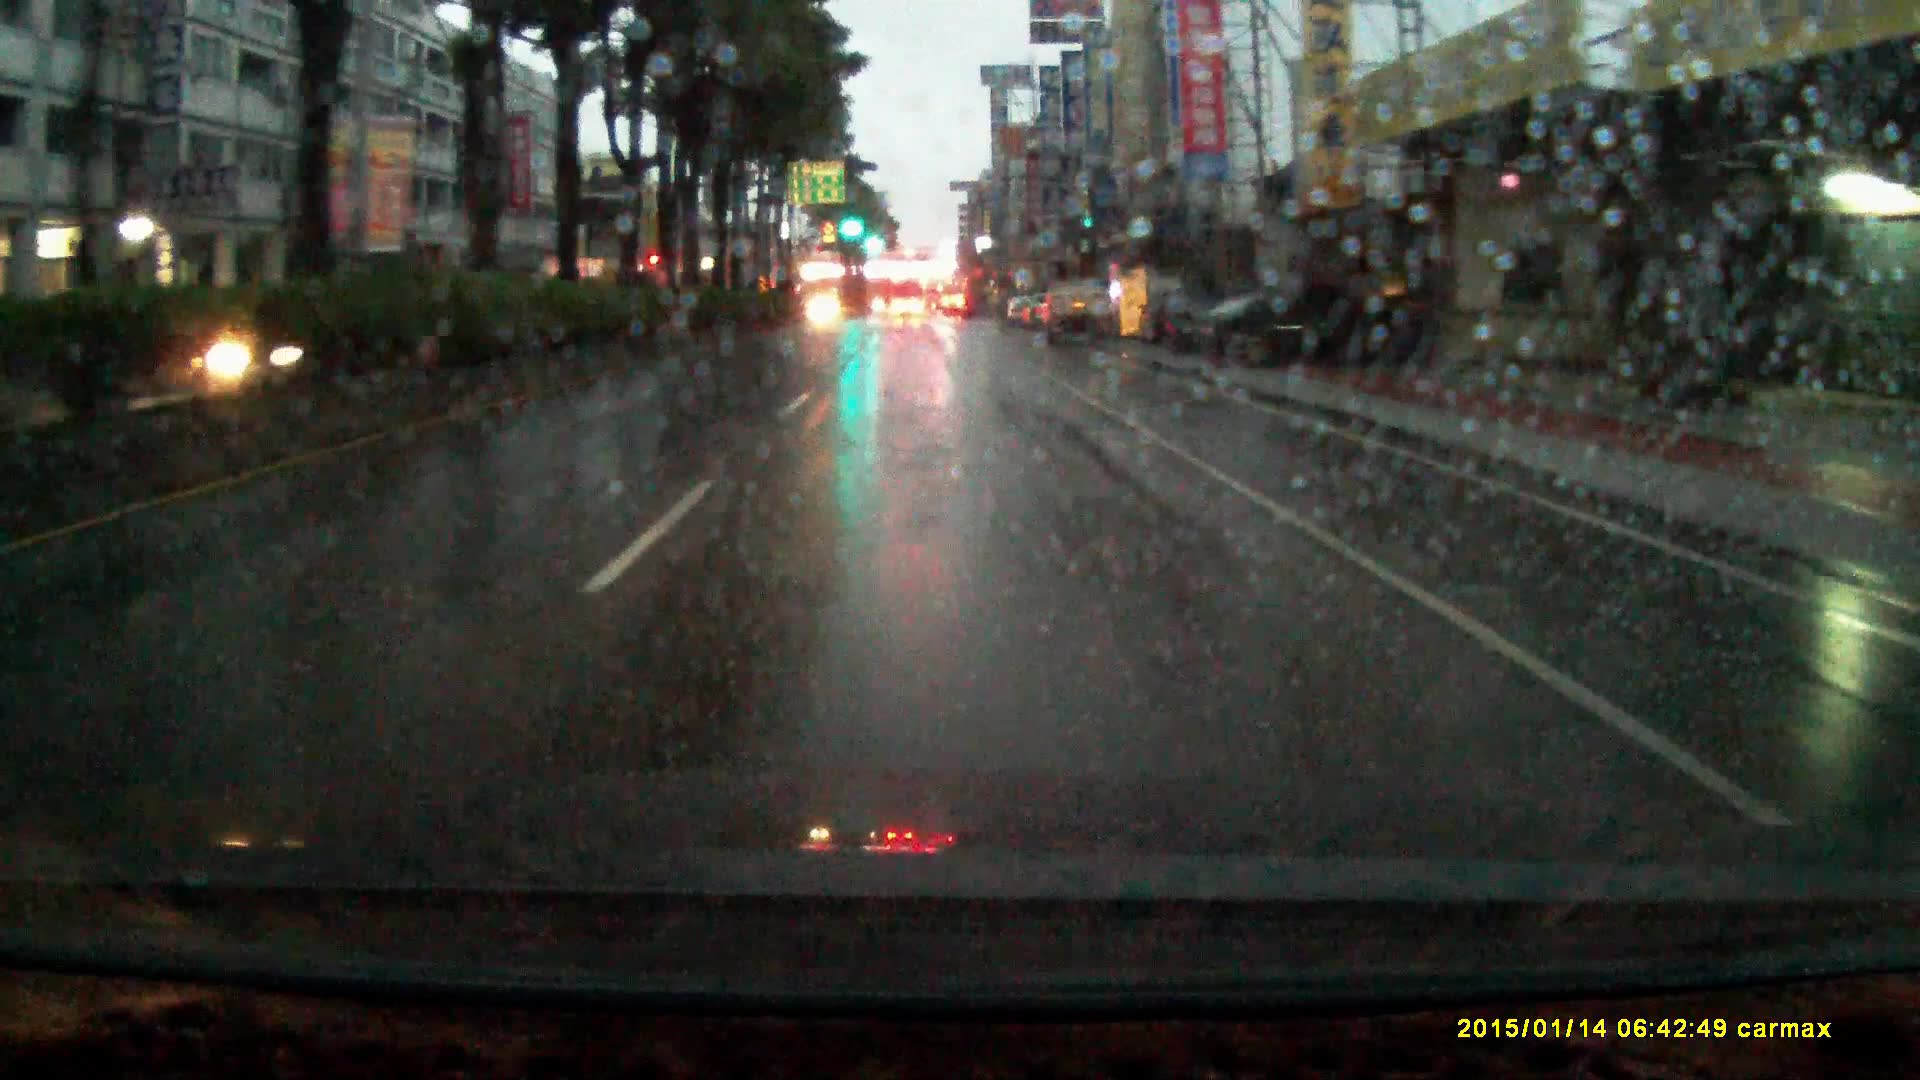vehicle: (1163, 290, 1433, 369), (1044, 277, 1110, 340), (806, 299, 844, 332), (887, 298, 927, 324)
